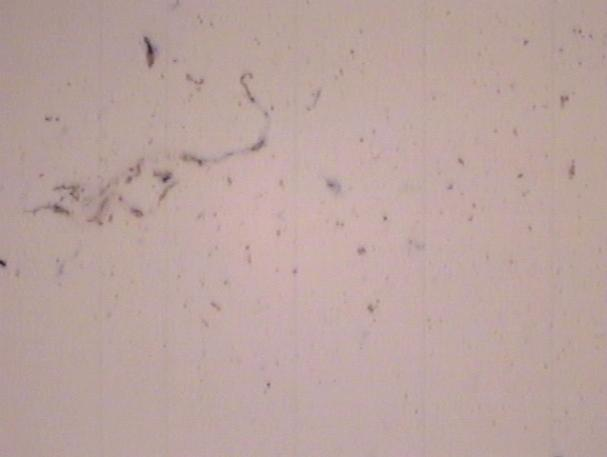PO CONTAMINATION: (1, 1, 599, 399)
